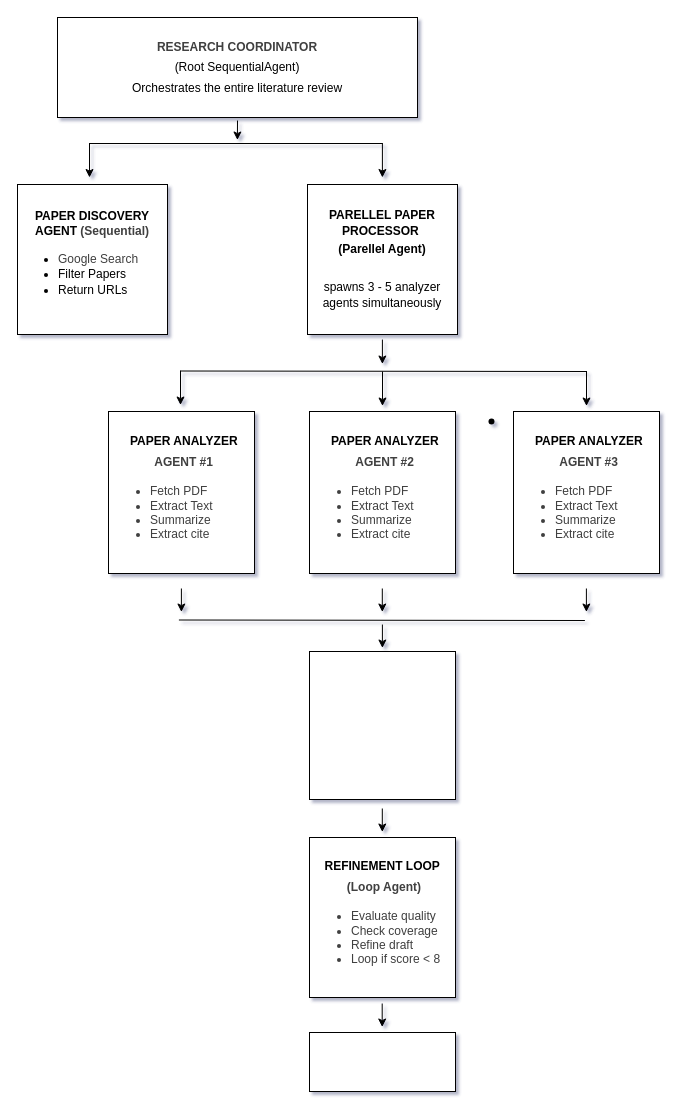
Some shapes in this 683 by 1115 pixel diagram are drawn without their labels. The shapes that lost their labels are listed below. From the top down, each one's centre as x and y in pixels, then its label:
At (382,725): "SYNTHESIS AGENT (Sequential) Identify themes Find gaps Draft review".
At (382,1062): "FINAL LITERATURE REVIEW".
